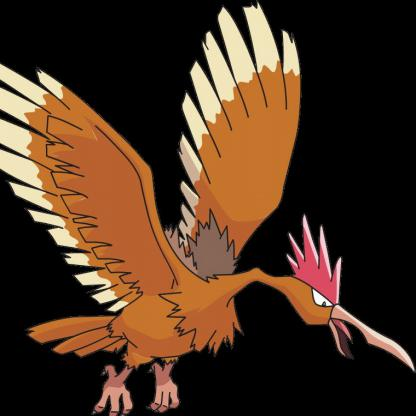Fearow: (1, 2, 416, 416)
